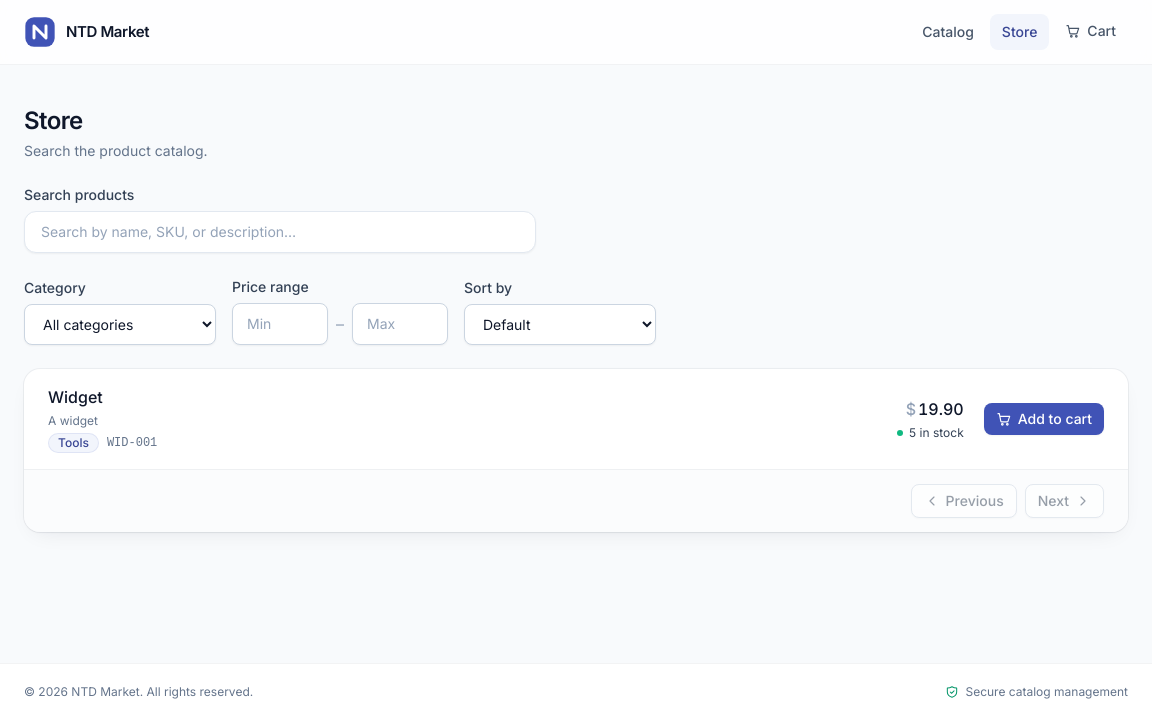
Test: StoreSearchPage › shows matching products when the customer types a search term
expect the text "Widget" is shown: met, box [48,387,103,407]
Type "blue" into the search field labelled "Search products" at coordinates (280, 232), box [24,211,536,253]
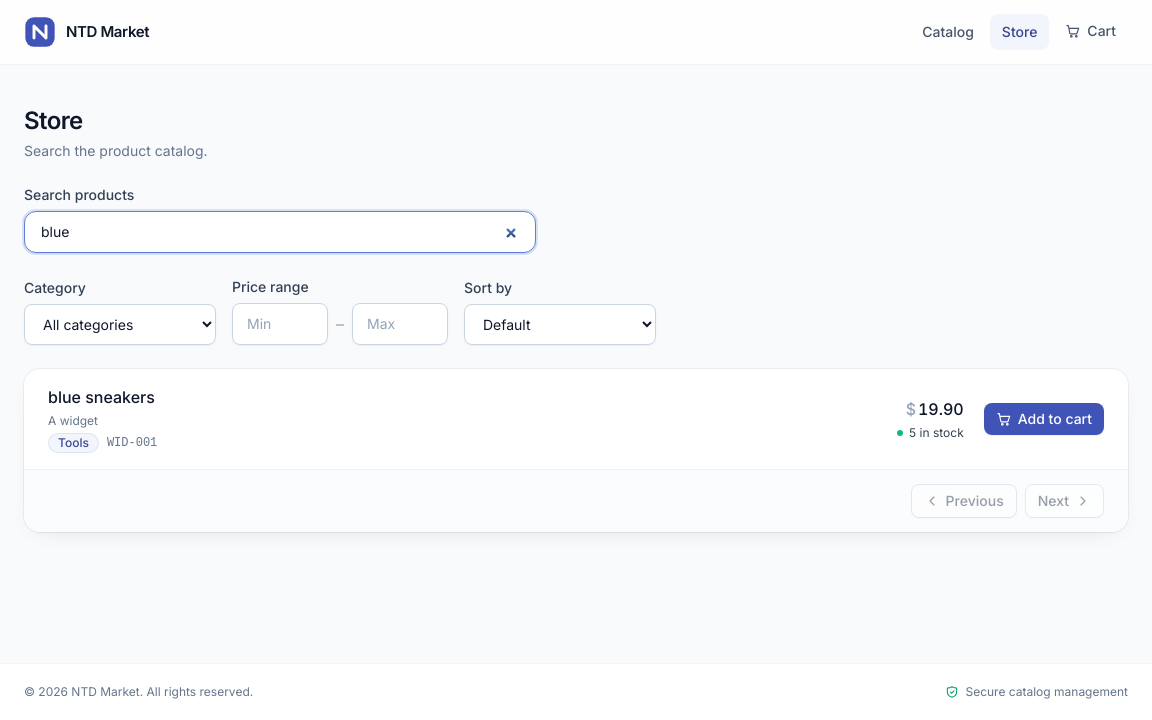
expect the text "blue sneakers" is shown: met, box [48,385,157,409]
